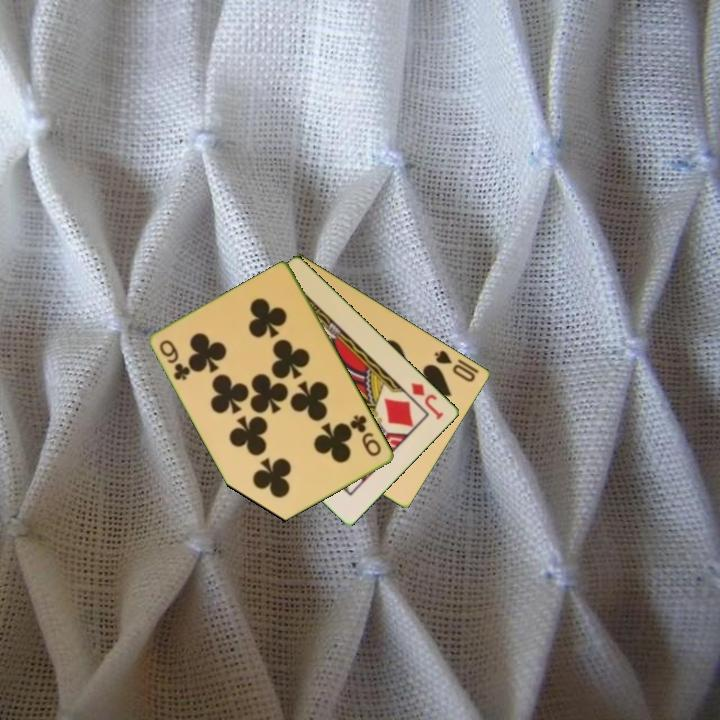10s: (431, 347, 479, 385)
9c: (347, 411, 385, 460), (156, 336, 194, 384)
Jd: (408, 379, 447, 423)
